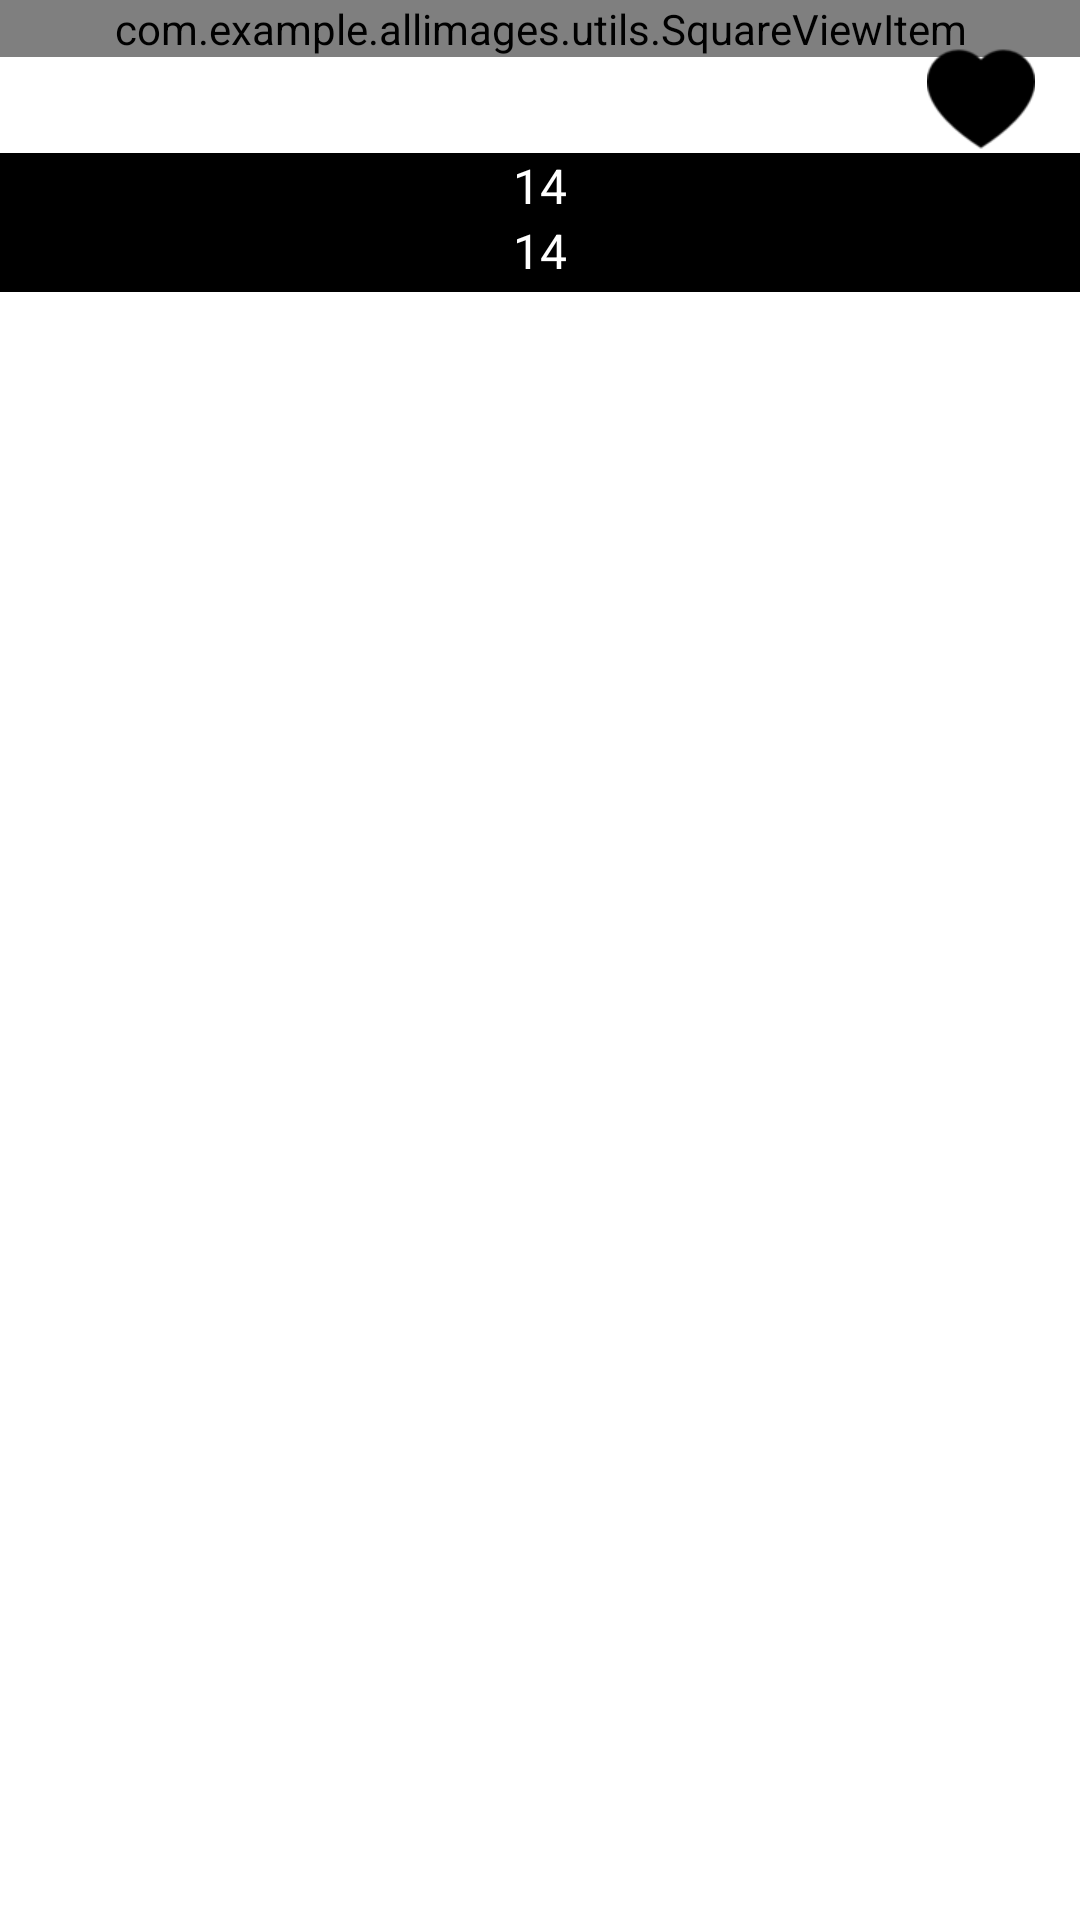

Screen size 1080px x 1920px. Icon name, then its center in pixels as (x=x, y=y):
fav: (x=981, y=99)
